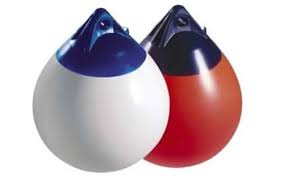buoy: (130, 51, 243, 166)
